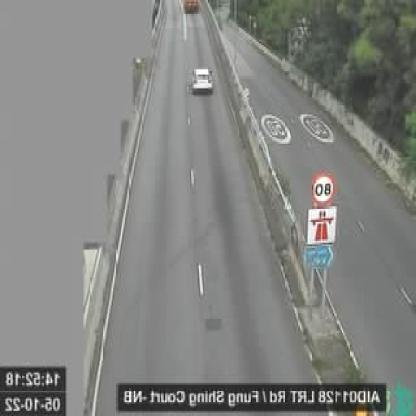Car: (192, 67, 214, 92)
